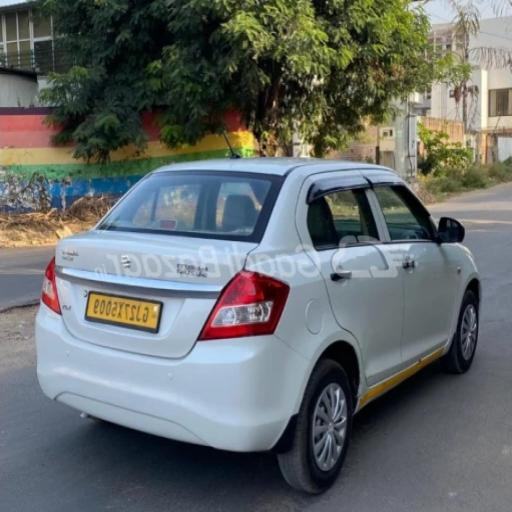License: (74, 291, 166, 334)
